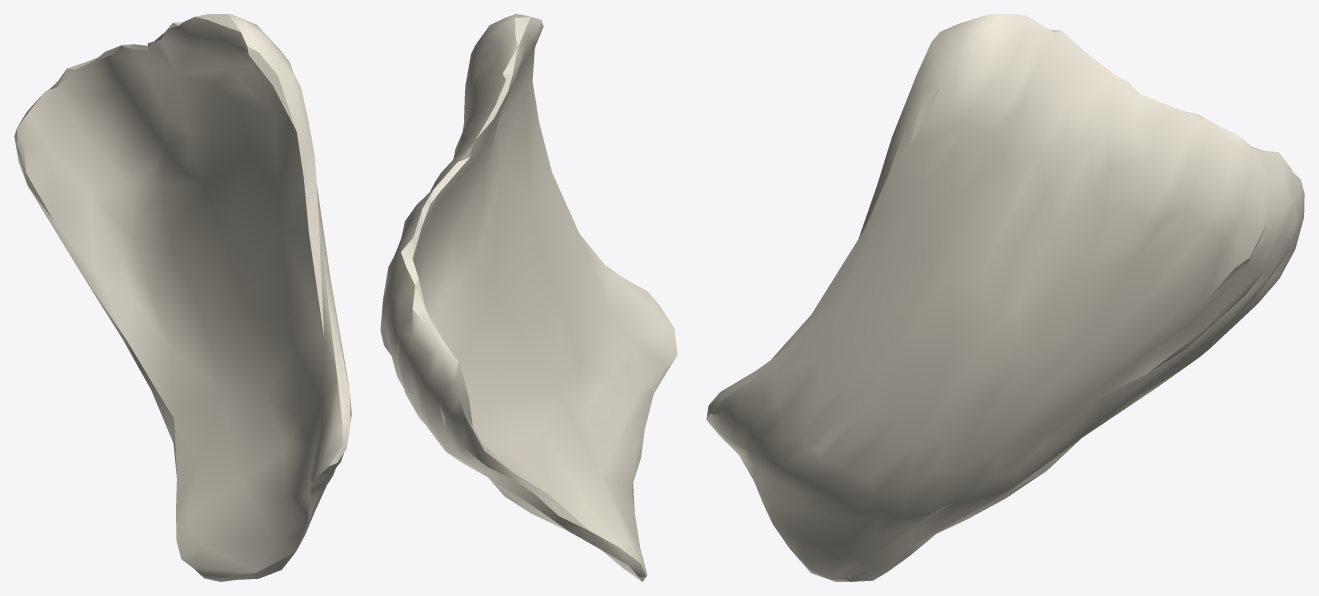
The model's file is fma326803-l_mm1471.glb.
The picture shows the model from 3 angles, left to right: view 1: azimuth 30°, elevation 25°; view 2: azimuth 150°, elevation 25°; view 3: azimuth 270°, elevation 25°; orthographic projection. The views are drawn at different scales.
Visible parts, largest first — view 1: FMA326803-L_MM1471; view 2: FMA326803-L_MM1471; view 3: FMA326803-L_MM1471.
Boxes of the visible parts, x1=… form: FMA326803-L_MM1471: x1=14, y1=14, x2=351, y2=581; FMA326803-L_MM1471: x1=380, y1=14, x2=677, y2=581; FMA326803-L_MM1471: x1=706, y1=14, x2=1304, y2=581.
Bounding box in the file's own units: 0.00416 × 0.0152 × 0.0138.
